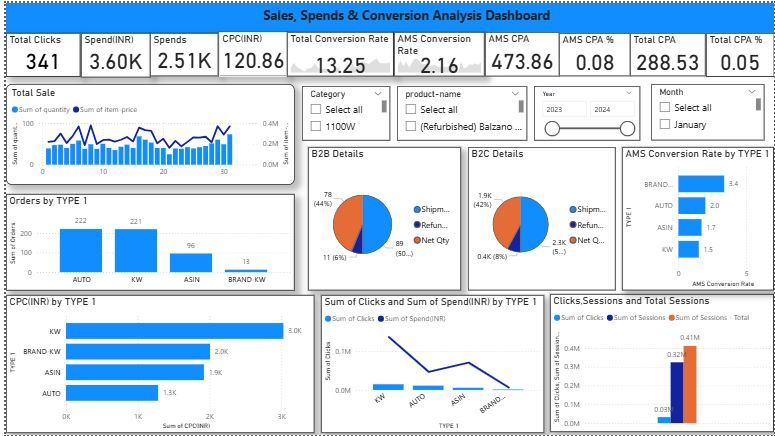

What the dashboard file says about the page in this screenshot:
{"tool":"powerbi","page":{"name":"Page 1","canvas":[1280,720],"ordinal":0},"visuals":[{"type":"textbox","box":[0,0,1280.2,50.4],"z":0},{"type":"kpi","title":"Total Clicks","fields":{"Indicator":["Sum(AMS-Campaign.Clicks)"],"TrendLine":["AMS-Campaign.Clicks"]},"box":[0,50.4,123.8,73.4],"z":1000},{"type":"kpi","title":"Spend(INR)","fields":{"Indicator":["Sum(AMS-Campaign.Spend(INR))"],"TrendLine":["AMS-Campaign.Spend(INR)"]},"box":[124.3,50.4,115.9,73.9],"z":2000},{"type":"kpi","title":"Spends","fields":{"Indicator":["Sum(Meta-Spends.Spends)"],"TrendLine":["Meta-Spends.Spends"]},"box":[240.2,50.4,114.2,72.2],"z":3000},{"type":"kpi","title":"CPC(INR)","fields":{"Indicator":["Sum(AMS-Campaign.CPC(INR))"],"TrendLine":["AMS-Campaign.CPC(INR)"]},"box":[354.4,48.7,114.2,73.9],"z":4000},{"type":"kpi","title":"Total Conversion Rate ","fields":{"Indicator":["All-Orders.Total Conversion Rate"],"TrendLine":["Meta-Spends.Date"]},"box":[468.7,48.7,178.1,73.9],"z":5000},{"type":"kpi","title":"AMS Conversion Rate ","fields":{"Indicator":["AMS-Campaign.AMS Conversion Rate"],"TrendLine":["Meta-Spends.Date"]},"box":[646.7,48.7,151.2,73.9],"z":6000},{"type":"card","title":"AMS CPA","fields":{"Values":["AMS-Campaign.AMS CPA"]},"box":[797.9,48.7,124.3,73.9],"z":7000},{"type":"card","title":"AMS CPA %","fields":{"Values":["AMS-Campaign.AMS CPA %"]},"box":[922.2,50.4,119.3,72.2],"z":8000},{"type":"card","title":"Total CPA","fields":{"Values":["AMS-Campaign.Total CPA"]},"box":[1040.7,50,125.6,72.1],"z":9000},{"type":"card","title":"Total CPA %","fields":{"Values":["AMS-Campaign.Total CPA %"]},"box":[1166.4,50.4,113.8,73.4],"z":10000},{"type":"lineStackedColumnComboChart","title":"Total Sale ","fields":{"Category":["All-Orders.purchase-date.Variation.Date Hierarchy.Day"],"Y2":["Sum(All-Orders.item-price)"],"Y":["Sum(All-Orders.quantity)"]},"box":[0,135.4,481,168.5],"z":11000},{"type":"clusteredColumnChart","title":"Orders by TYPE 1","fields":{"Category":["AMS-Campaign.TYPE 1"],"Y":["Sum(AMS-Campaign.Orders)"]},"box":[0,318.2,481,161.3],"z":12000},{"type":"pieChart","title":"B2B Details","fields":{"Y":["Sales-B2B.Shipment Qty","Sales-B2B.Refund Qty","Sales-B2B.Net Qty"]},"box":[504,240.5,254.9,239],"z":13000},{"type":"barChart","title":"CPC(INR) by TYPE 1","fields":{"Category":["AMS-Campaign.TYPE 1"],"Y":["Sum(AMS-Campaign.CPC(INR))"]},"box":[0,486,514,230.2],"z":14000},{"type":"lineStackedColumnComboChart","fields":{"Category":["AMS-Campaign.TYPE 1"],"Y":["Sum(AMS-Campaign.Clicks)"],"Y2":["Sum(AMS-Campaign.Spend(INR))"]},"box":[525.6,486,372.1,230.2],"z":15000},{"type":"clusteredColumnChart","title":"Clicks,Sessions and Total Sessions","fields":{"Y":["Sum(AMS-Campaign.Clicks)","Sum(Meta-Spends.Sessions)","Sum(Total-Amazon-Session.Sessions - Total)"]},"box":[906.7,484.9,373.3,230.2],"z":16000},{"type":"clusteredBarChart","fields":{"Category":["AMS-Campaign.TYPE 1"],"Y":["AMS-Campaign.AMS Conversion Rate"]},"box":[1026.7,240.5,253.4,239],"z":17000},{"type":"pieChart","title":"B2C Details","fields":{"Y":["Sales-B2C.Shipment Quantity","Sales-B2C.Refund Quantity","Sales-B2C.Net Quantity"]},"box":[770.4,240.5,246.2,239],"z":18000},{"type":"slicer","fields":{"Values":["Master.Category"]},"box":[493.9,138.2,146.9,90.7],"z":19000},{"type":"slicer","fields":{"Values":["All-Orders.product-name"]},"box":[652.3,138.2,217.4,90.7],"z":20000},{"type":"slicer","fields":{"Values":["All-Orders.last-updated-date.Variation.Date Hierarchy.Month"]},"box":[1074.2,135.4,188.6,93.6],"z":21000},{"type":"slicer","fields":{"Values":["Sales-B2C.Order Date.Variation.Date Hierarchy.Year"]},"box":[879.8,138.2,177.1,90.7],"z":22000}]}

Visuals, with their boxes in screenshot pixels (x1, y1, x2, y2), scaled from the page's 1280x720 canvas onto the 775x436 screenshot:
textbox: {"x1": 0, "y1": 0, "x2": 774, "y2": 31}
"Total Clicks" kpi: {"x1": 0, "y1": 31, "x2": 75, "y2": 75}
"Spend(INR)" kpi: {"x1": 75, "y1": 31, "x2": 145, "y2": 75}
"Spends" kpi: {"x1": 145, "y1": 31, "x2": 215, "y2": 74}
"CPC(INR)" kpi: {"x1": 215, "y1": 29, "x2": 284, "y2": 74}
"Total Conversion Rate " kpi: {"x1": 284, "y1": 29, "x2": 392, "y2": 74}
"AMS Conversion Rate " kpi: {"x1": 392, "y1": 29, "x2": 483, "y2": 74}
"AMS CPA" card: {"x1": 483, "y1": 29, "x2": 558, "y2": 74}
"AMS CPA %" card: {"x1": 558, "y1": 31, "x2": 631, "y2": 74}
"Total CPA" card: {"x1": 630, "y1": 30, "x2": 706, "y2": 74}
"Total CPA %" card: {"x1": 706, "y1": 31, "x2": 774, "y2": 75}
"Total Sale " lineStackedColumnComboChart: {"x1": 0, "y1": 82, "x2": 291, "y2": 184}
"Orders by TYPE 1" clusteredColumnChart: {"x1": 0, "y1": 193, "x2": 291, "y2": 290}
"B2B Details" pieChart: {"x1": 305, "y1": 146, "x2": 459, "y2": 290}
"CPC(INR) by TYPE 1" barChart: {"x1": 0, "y1": 294, "x2": 311, "y2": 434}
lineStackedColumnComboChart - AMS-Campaign.TYPE 1 x Sum(AMS-Campaign.Clicks): {"x1": 318, "y1": 294, "x2": 544, "y2": 434}
"Clicks,Sessions and Total Sessions" clusteredColumnChart: {"x1": 549, "y1": 294, "x2": 774, "y2": 433}
clusteredBarChart - AMS-Campaign.TYPE 1 x AMS-Campaign.AMS Conversion Rate: {"x1": 622, "y1": 146, "x2": 774, "y2": 290}
"B2C Details" pieChart: {"x1": 466, "y1": 146, "x2": 616, "y2": 290}
slicer - Master.Category: {"x1": 299, "y1": 84, "x2": 388, "y2": 139}
slicer - All-Orders.product-name: {"x1": 395, "y1": 84, "x2": 527, "y2": 139}
slicer - All-Orders.last-updated-date.Variation.Date Hierarchy.Month: {"x1": 650, "y1": 82, "x2": 765, "y2": 139}
slicer - Sales-B2C.Order Date.Variation.Date Hierarchy.Year: {"x1": 533, "y1": 84, "x2": 640, "y2": 139}
